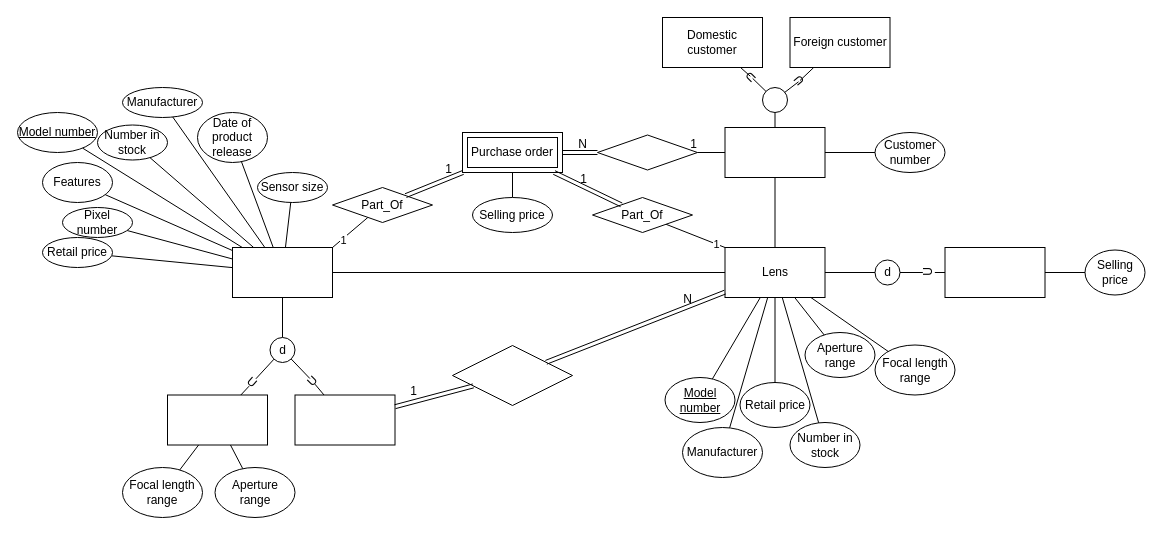
Image size: 1163x535. Some labels were removed from this diagram. Each missing label, with the box of its shape:
Camera: (232, 246, 332, 298)
Can_Use: (452, 344, 572, 406)
Customer: (724, 126, 825, 178)
Has_Order: (596, 134, 698, 170)
Non-replaceable lens camera: (166, 394, 268, 445)
Prime lens: (944, 246, 1045, 298)
Replaceable lens camera: (294, 394, 395, 445)
